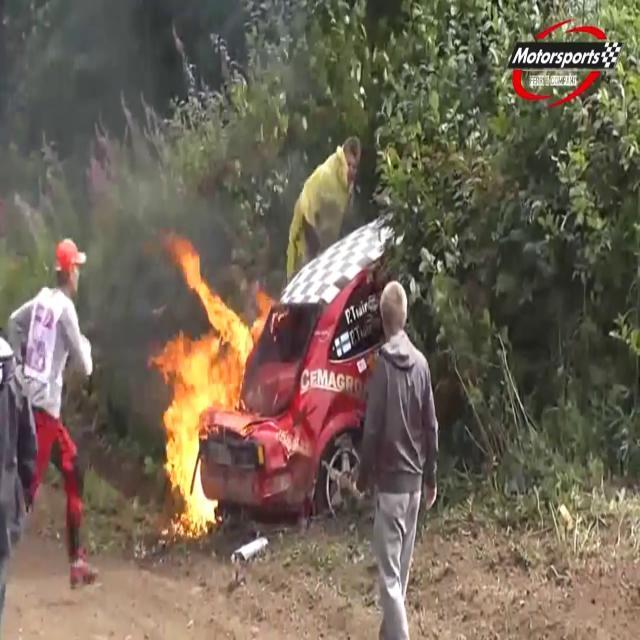Fire: (142, 237, 274, 535)
